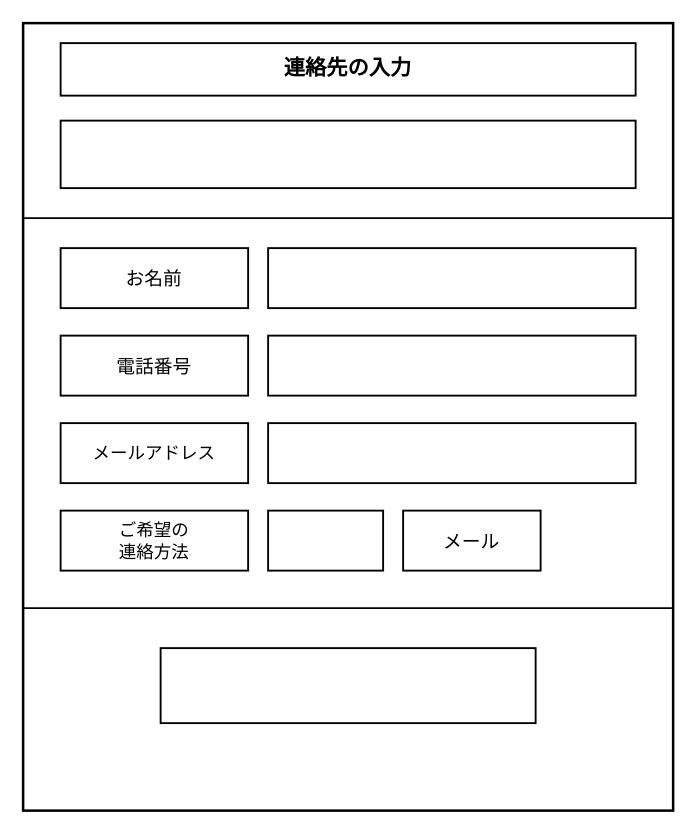
The diagram is 695 pixels wide and 833 high, and some of its shapes have lost their labels. Here are the shapes that lost their labels. From the top down, the box of each, then its label:
(59, 119, 636, 188): 定期健診 ／ 10月3日 14:00
(267, 509, 384, 571): 電話
(159, 647, 536, 724): 入力内容を確認する
